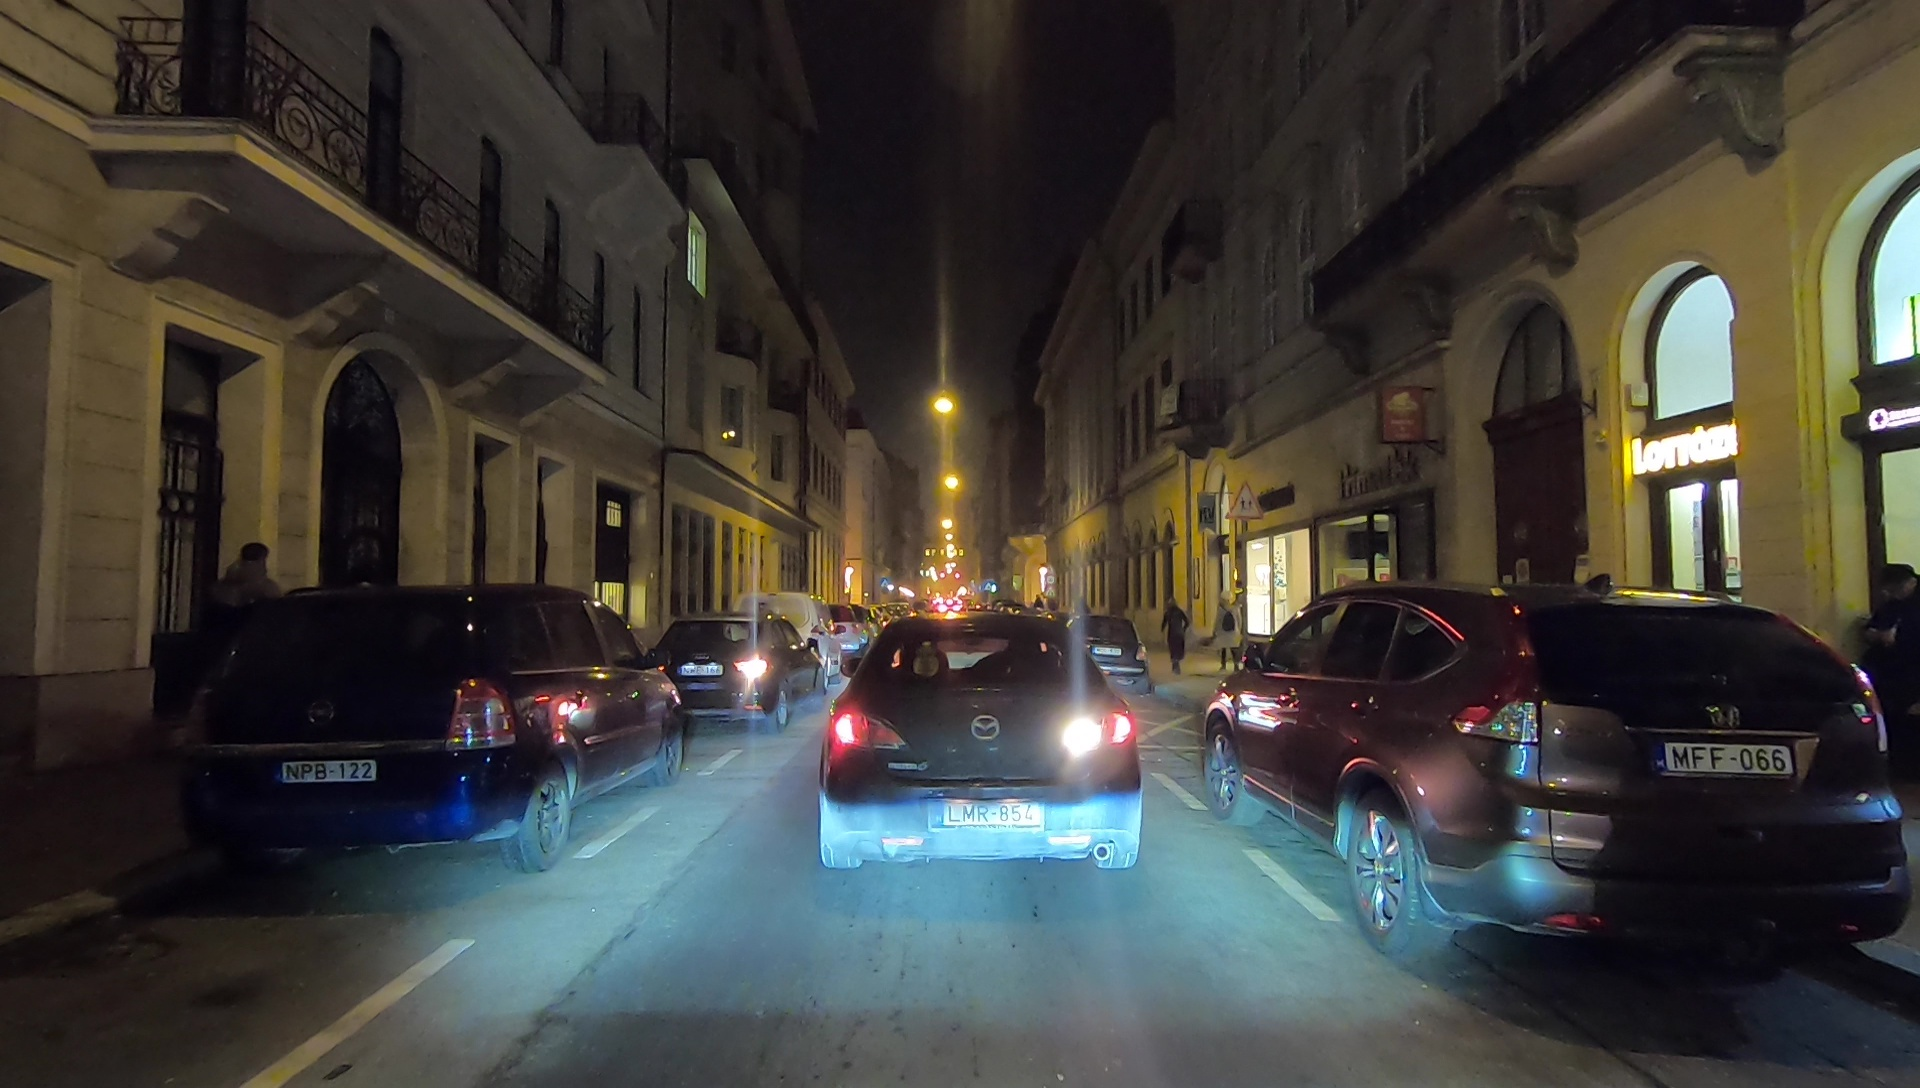person: (1864, 567, 1919, 771), (217, 545, 286, 689), (1210, 595, 1243, 680), (1158, 602, 1195, 674)
